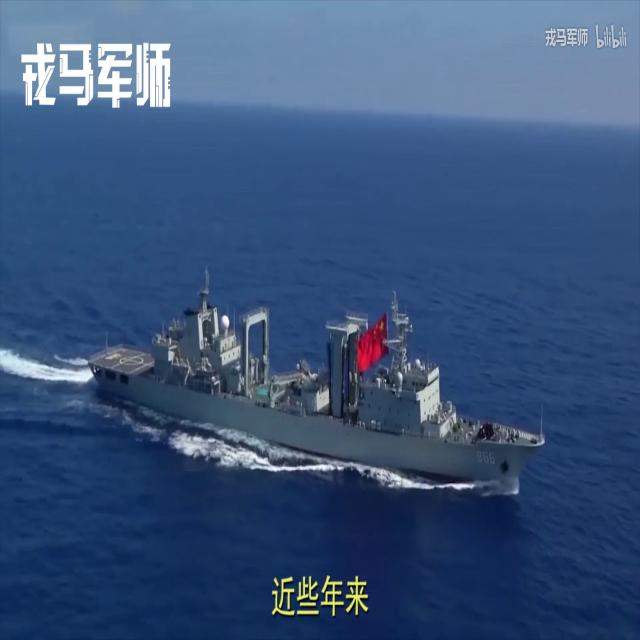navalvessels: (90, 262, 550, 480)
